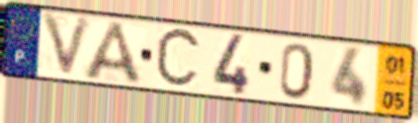0: (278, 41, 317, 101)
4: (327, 44, 371, 111), (210, 31, 253, 98)
A: (81, 19, 146, 87)
C: (153, 25, 204, 92)
V: (39, 10, 97, 82)
